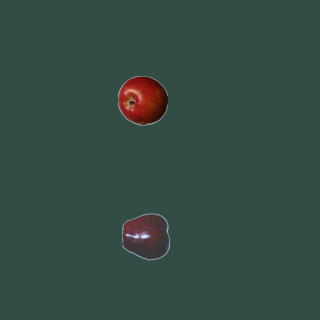Apple Braeburn: (117, 75, 167, 125)
Apple Red Delicious: (121, 211, 171, 261)
